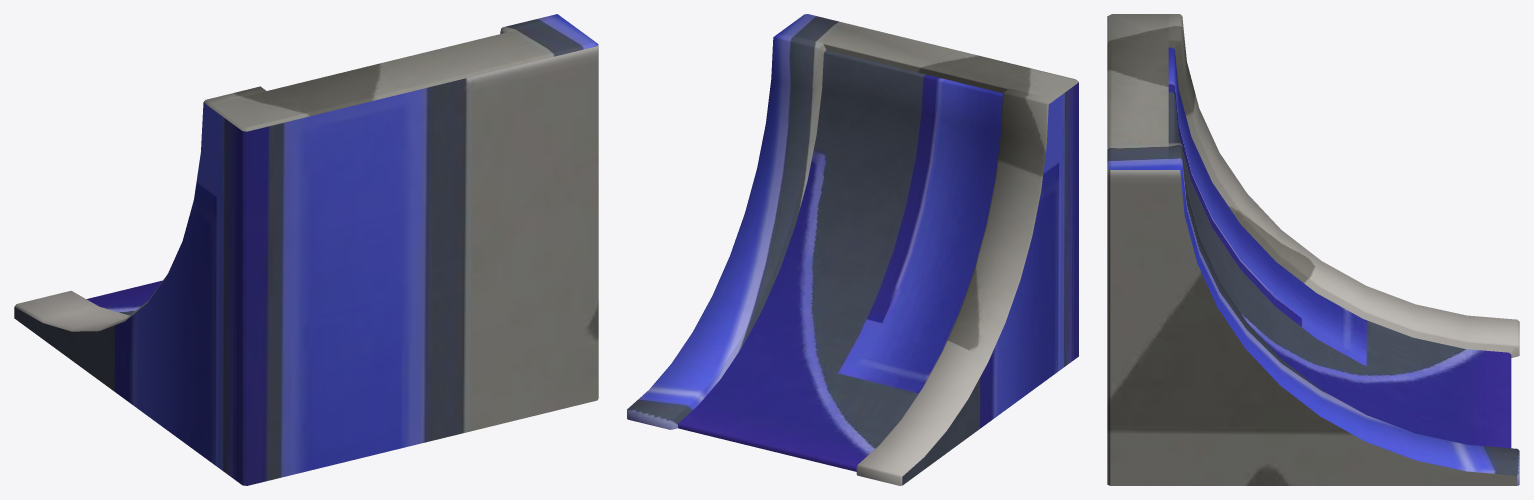
The model's file is speed_boost_ramp.glb.
The picture shows the model from 3 angles, left to right: view 1: azimuth 30°, elevation 25°; view 2: azimuth 150°, elevation 25°; view 3: azimuth 270°, elevation 25°; orthographic projection. The views are drawn at different scales.
Parts seen in each view (by area): view 1: BgMIi_objgmk_dashboard01_01-material; view 2: BgMIi_objgmk_dashboard01_01-material; view 3: BgMIi_objgmk_dashboard01_01-material.
Part boxes in pixels (box(x1,y1,x2,y2)): BgMIi_objgmk_dashboard01_01-material: box(14, 14, 598, 485); BgMIi_objgmk_dashboard01_01-material: box(627, 14, 1078, 485); BgMIi_objgmk_dashboard01_01-material: box(1107, 14, 1519, 485).
Bounding box in the file's own units: 2.09 × 2 × 2.35.
1 material, 1 textured.
